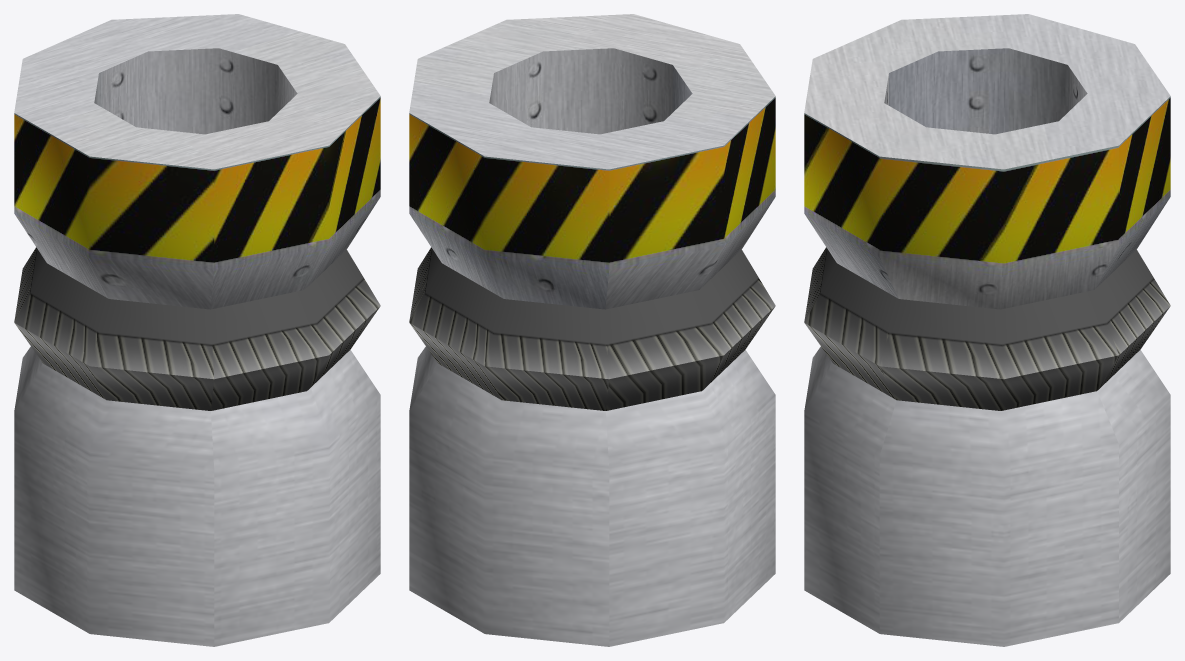
The model's file is RivitGunLvl2.FBX.
3 renders of one model, left to right at view 1: azimuth 30°, elevation 25°; view 2: azimuth 150°, elevation 25°; view 3: azimuth 270°, elevation 25°, orthographic.
Visible parts, largest first — view 1: RivitGunLvl2; view 2: RivitGunLvl2; view 3: RivitGunLvl2.
Boxes of the visible parts, box(x1,y1,x2,y2) form: RivitGunLvl2: box(14, 14, 380, 646); RivitGunLvl2: box(409, 14, 775, 646); RivitGunLvl2: box(804, 14, 1170, 646).
Size of the model in its own units: 14.25 by 20.41 by 14.2.
